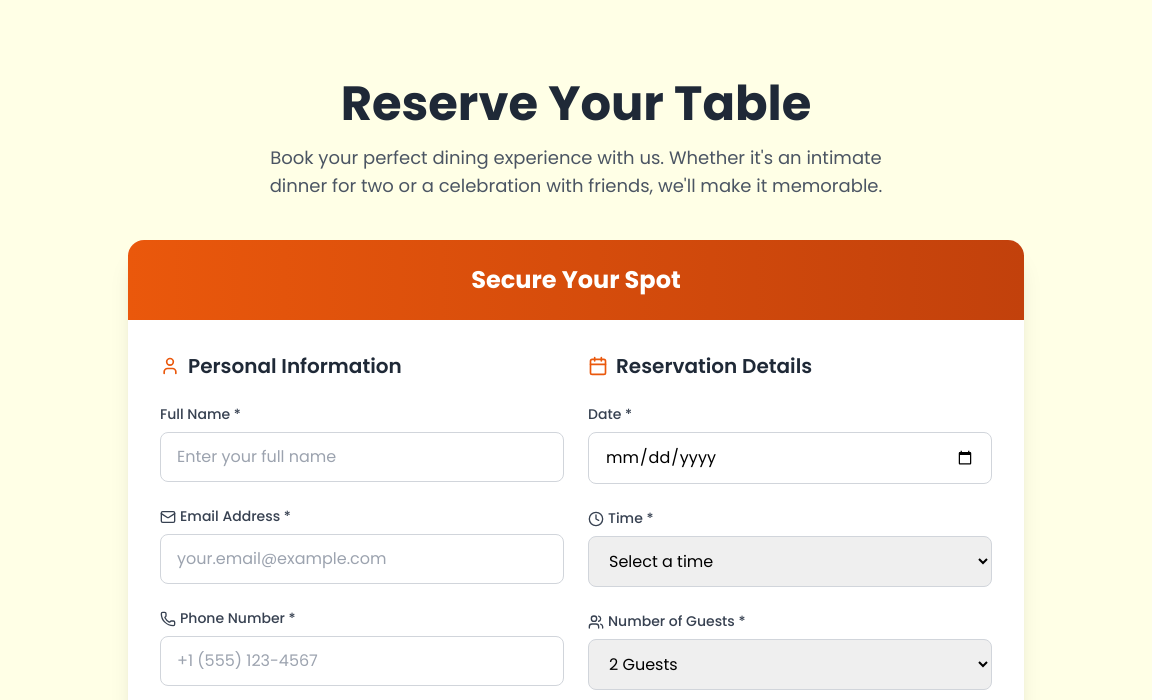
Test: Reservation Component › Form Validation › validates past date selection
This screenshot has width=1152, height=700.
# Fill required text fields
Type "John Doe" into the field with placeholder "Enter your full name" at (362, 457), box [160,432,564,482]
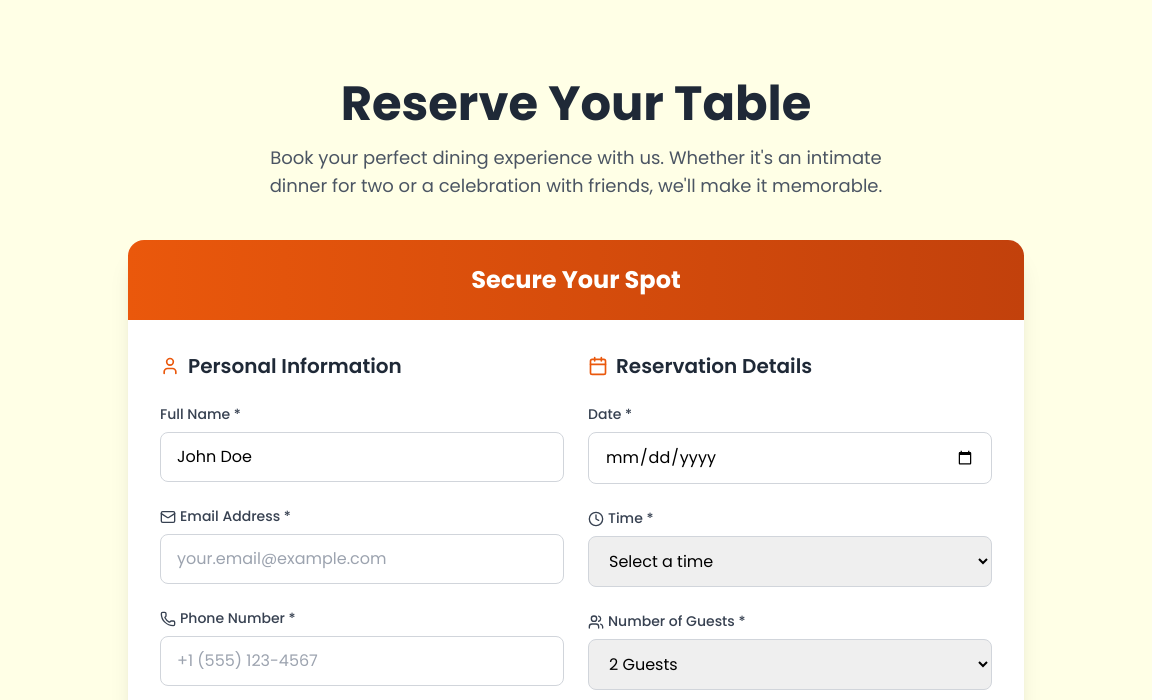
Type "john@example.com" into the field with placeholder "your.email@example.com" at (362, 559), box [160,534,564,584]
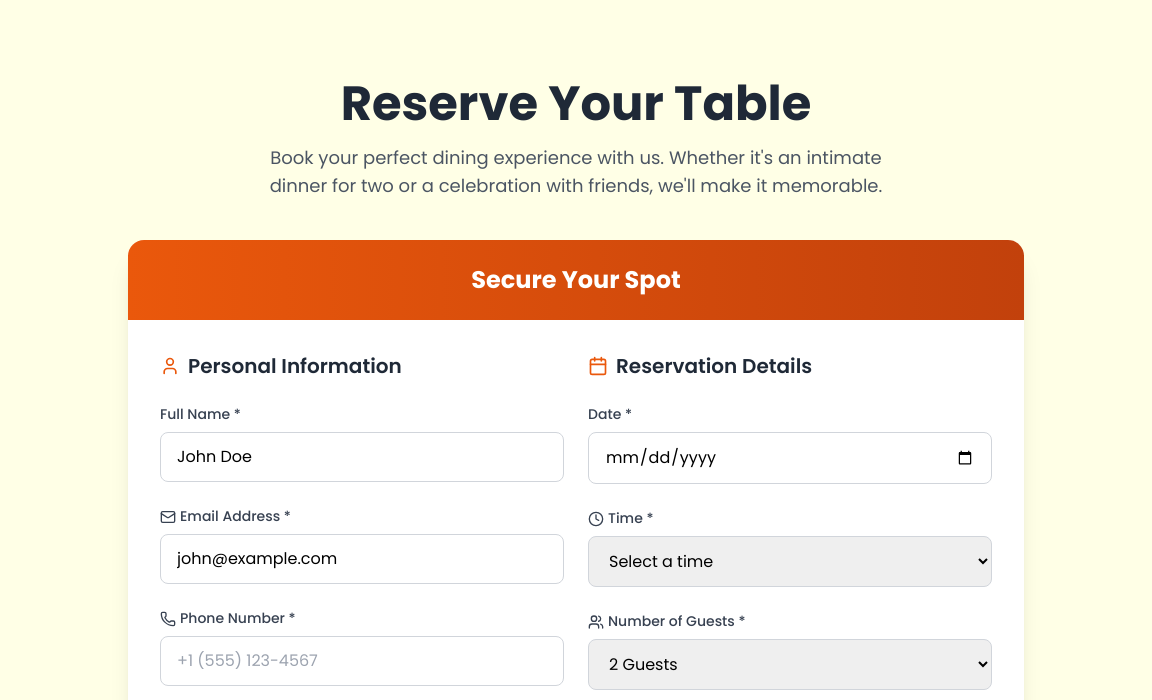
Type "+1234567890" into the field with placeholder "+1 (555) 123-4567" at (362, 661), box [160,636,564,686]
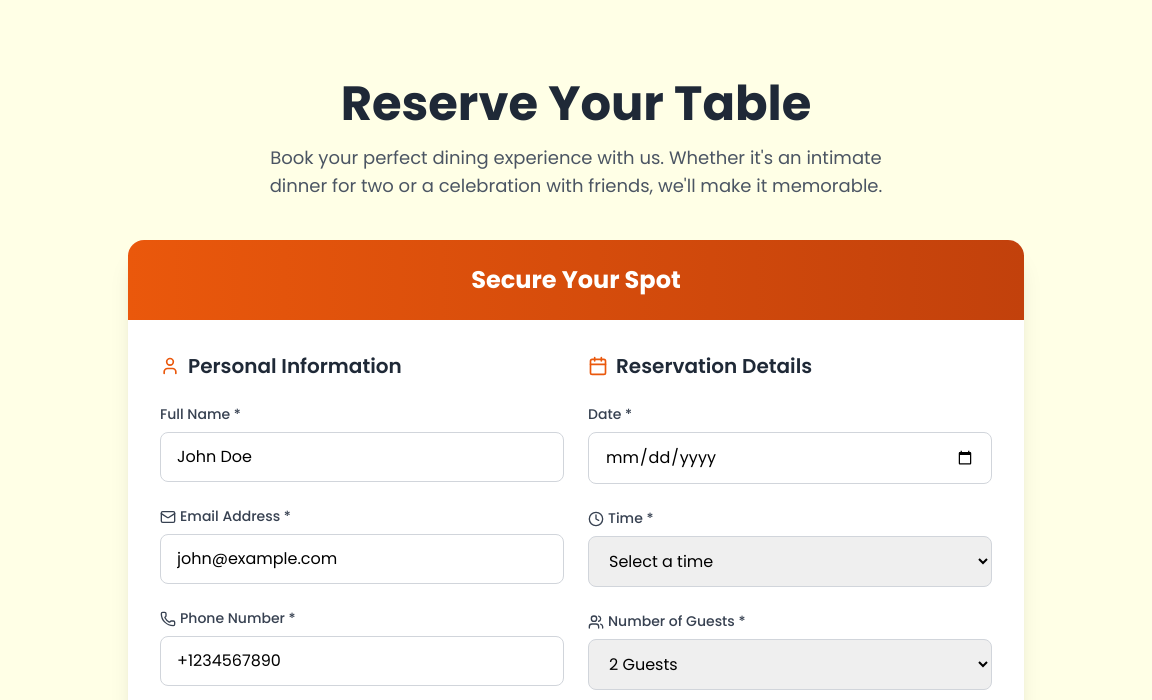
# Set past date
Type "2020-01-01" into the date field named "date" at (790, 458), box [588,432,992,484]
(page scrolled)
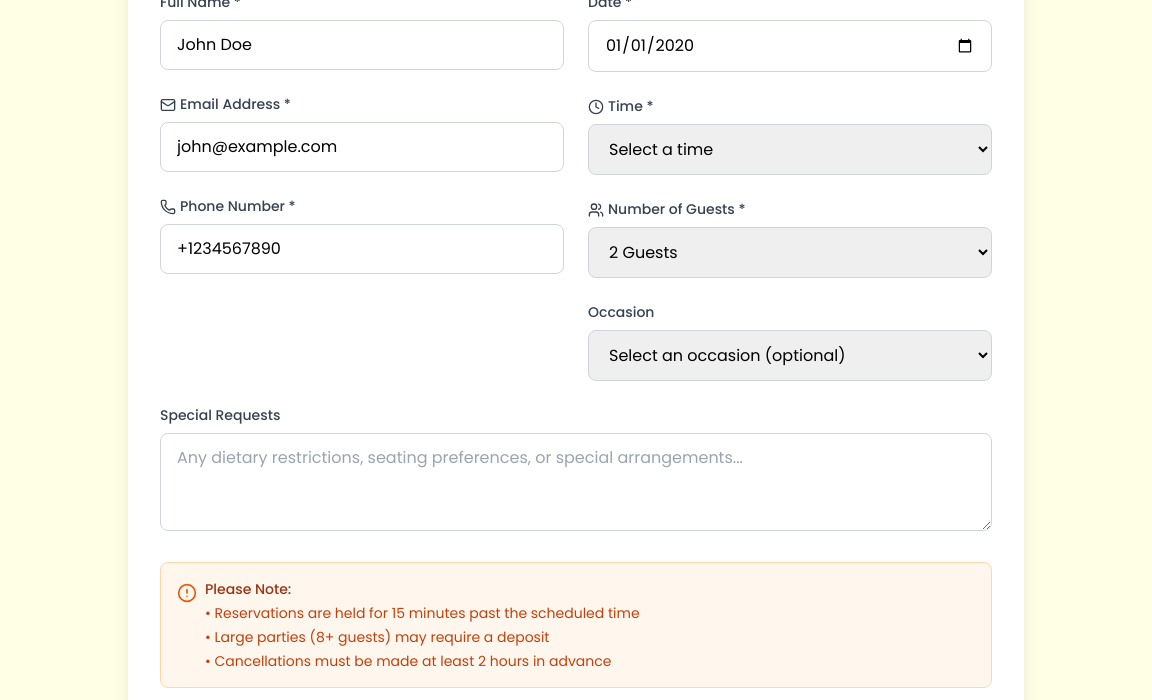
Submit the form
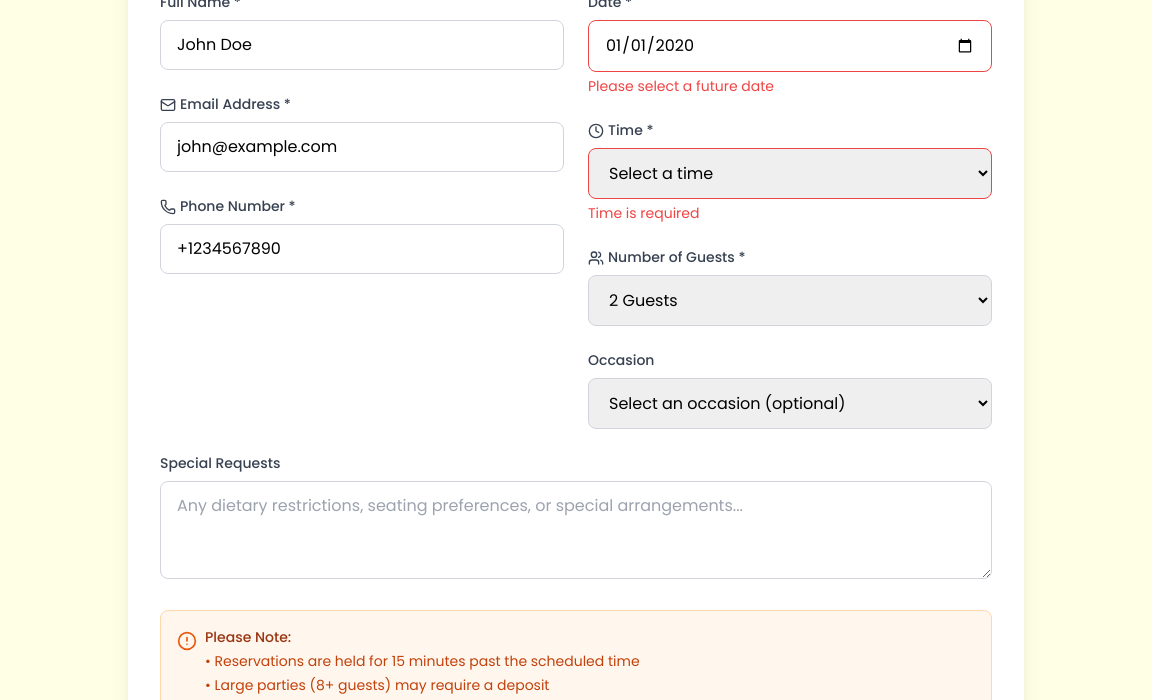
Check: the text "Please select a future date" is shown, box [588,76,774,96]
